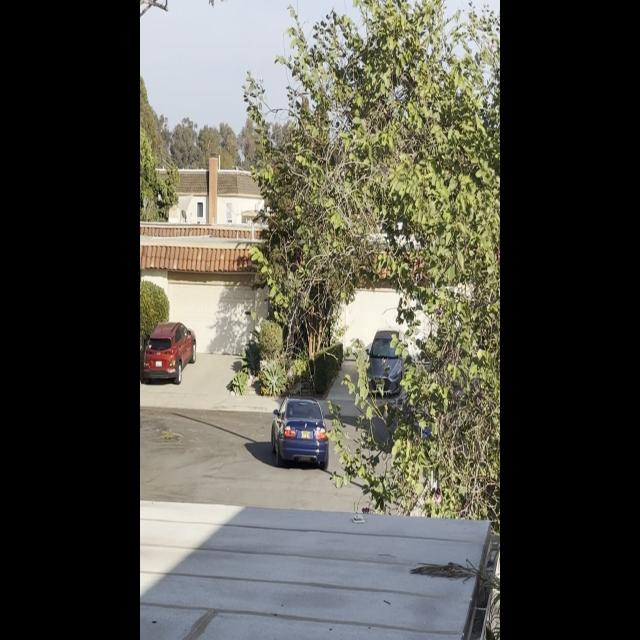Carbeetle: (267, 388, 332, 477)
Civilian: (140, 318, 199, 383), (363, 320, 409, 403)
